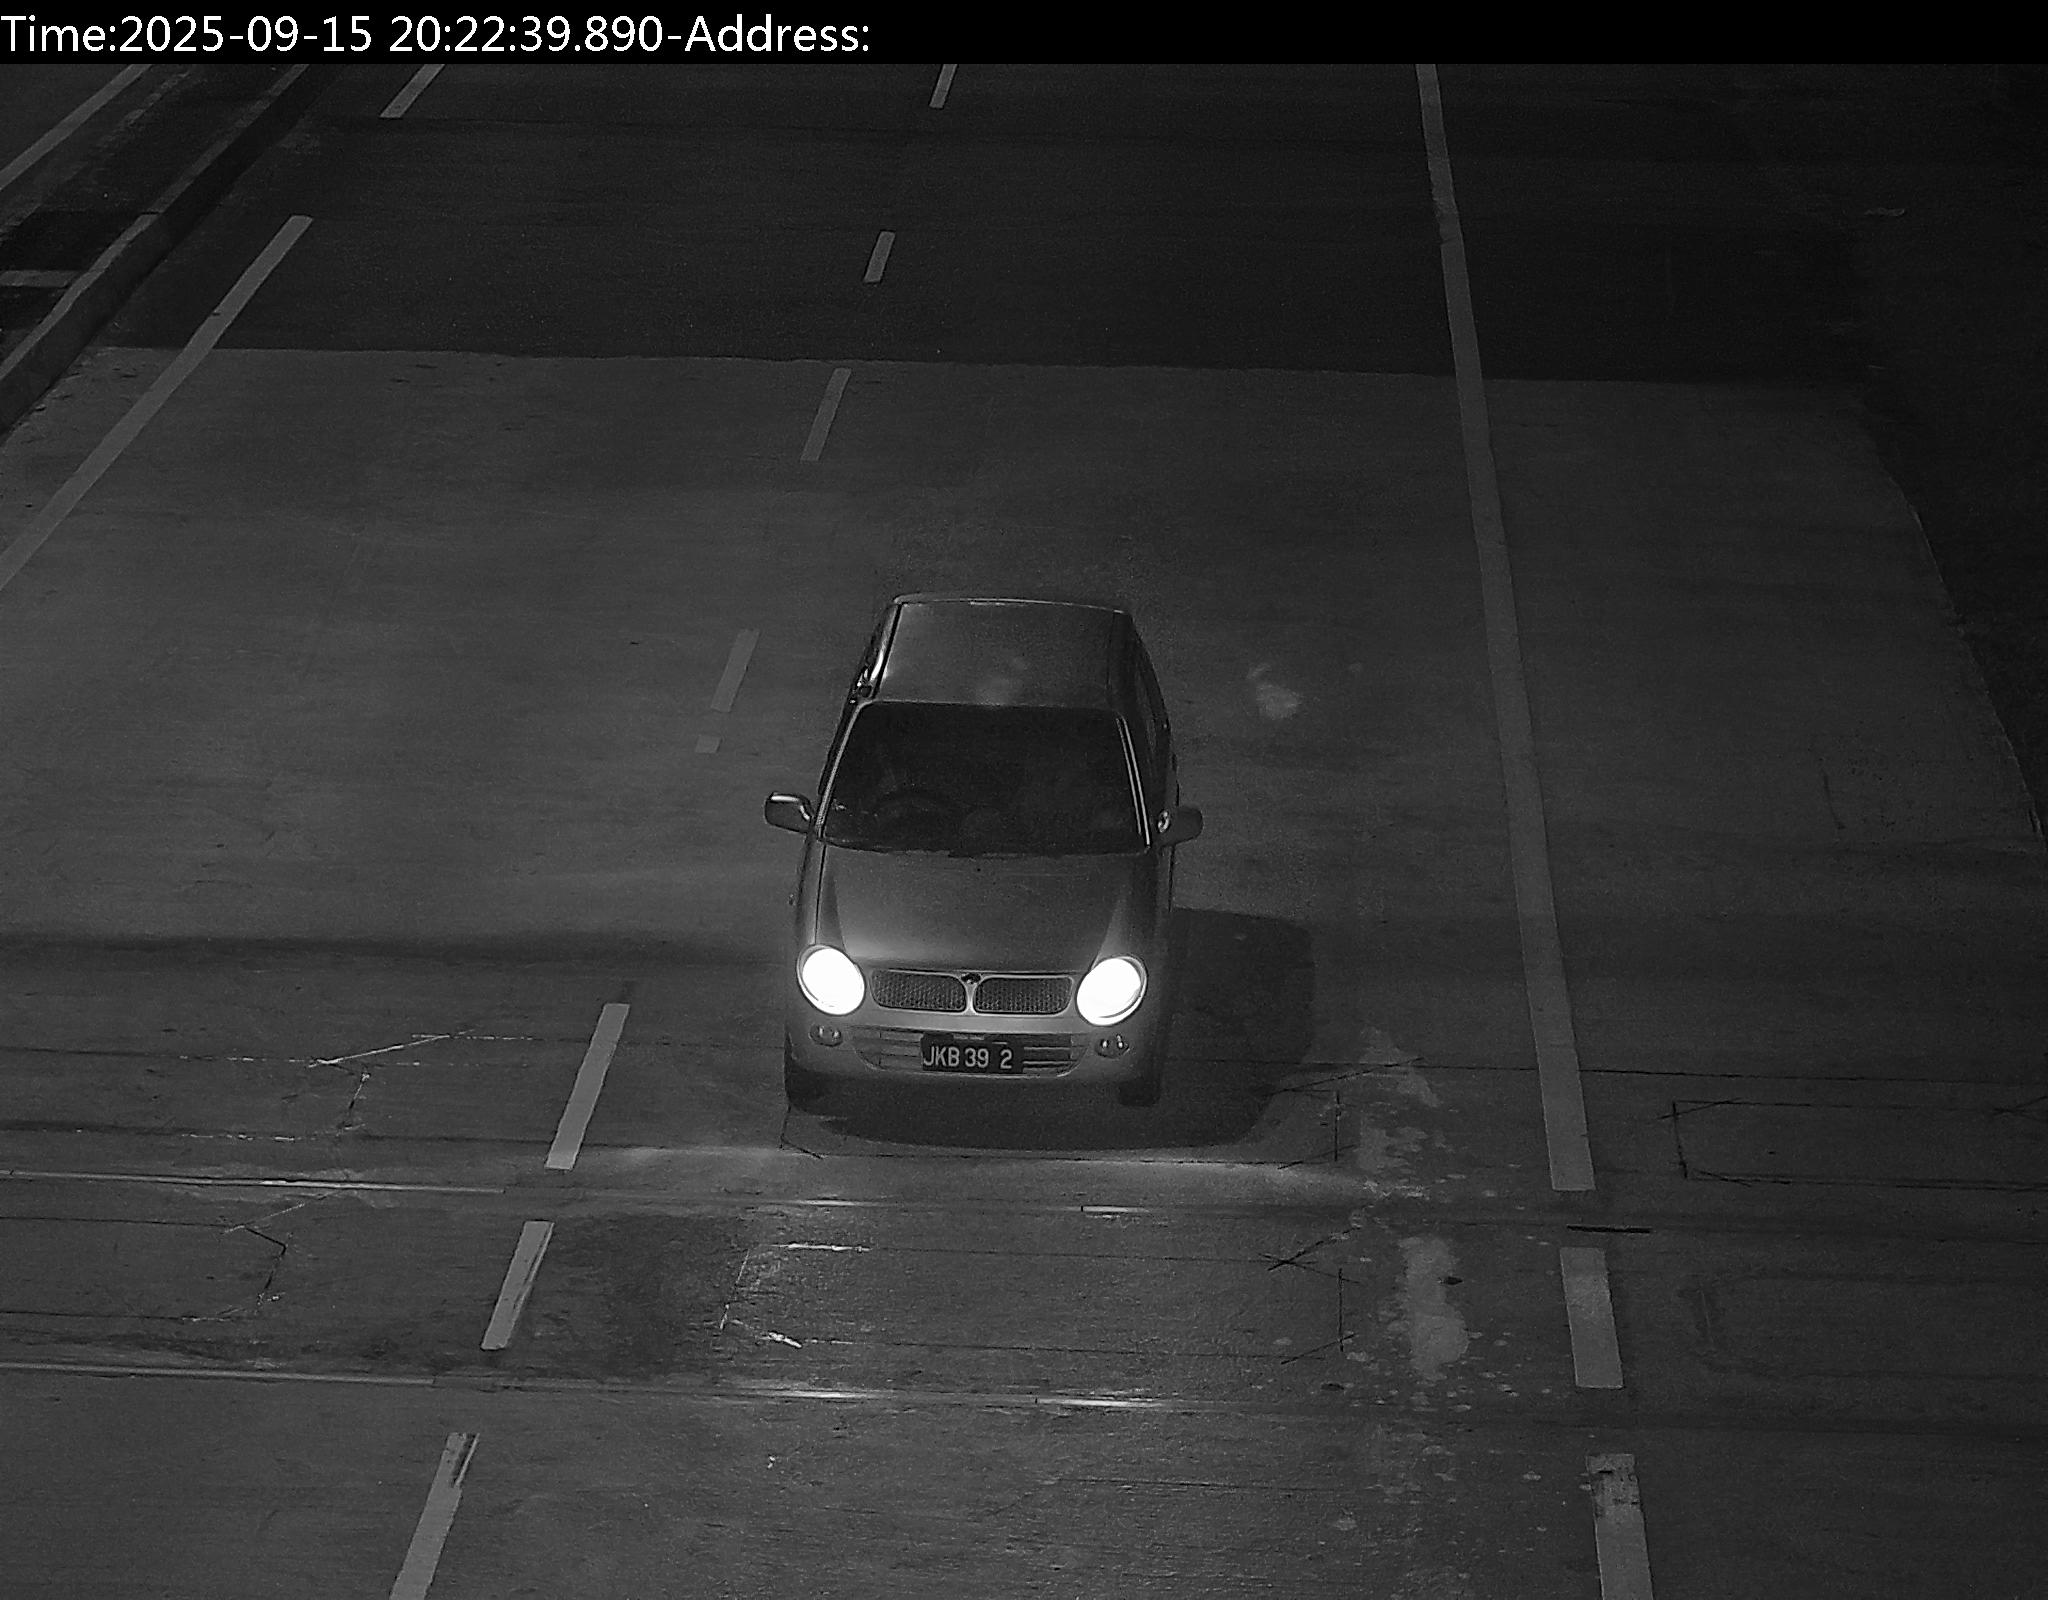broken: (921, 1033, 1022, 1073)
